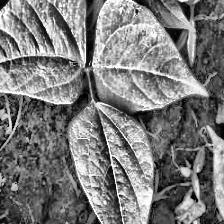ALS: (94, 0, 207, 109)
